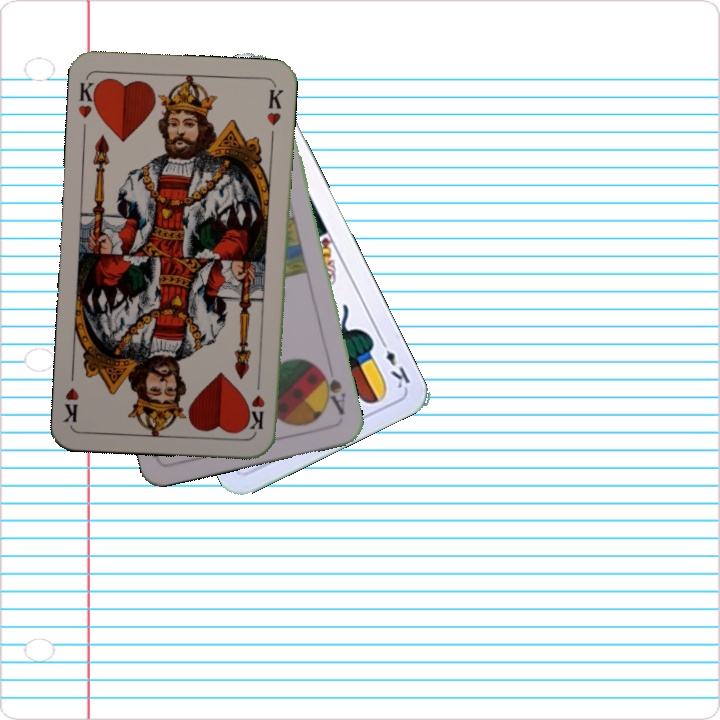EK: (375, 334, 413, 391)
HK: (244, 374, 268, 432), (74, 78, 102, 120)
SA: (316, 364, 348, 418)
